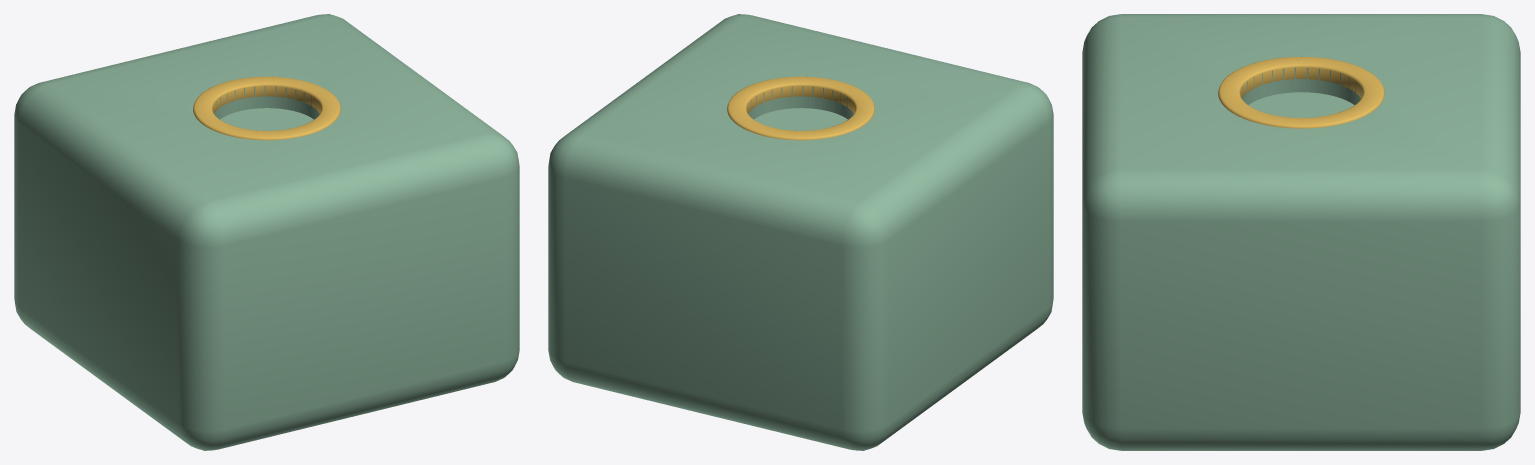
File: goal_block.glb
3 renders of one model, left to right at view 1: azimuth 30°, elevation 25°; view 2: azimuth 150°, elevation 25°; view 3: azimuth 270°, elevation 25°, orthographic. The views are drawn at different scales.
Parts seen in each view (by area): view 1: Jade goal core, Gold fitting ring; view 2: Jade goal core, Gold fitting ring; view 3: Jade goal core, Gold fitting ring.
Boxes of the visible parts, x1=… form: Jade goal core: x1=14, y1=14, x2=519, y2=450; Gold fitting ring: x1=193, y1=76, x2=340, y2=140; Jade goal core: x1=548, y1=14, x2=1053, y2=450; Gold fitting ring: x1=727, y1=76, x2=874, y2=140; Jade goal core: x1=1082, y1=14, x2=1520, y2=450; Gold fitting ring: x1=1218, y1=56, x2=1384, y2=128.
Size of the model in its own units: 1 by 0.706 by 1.
